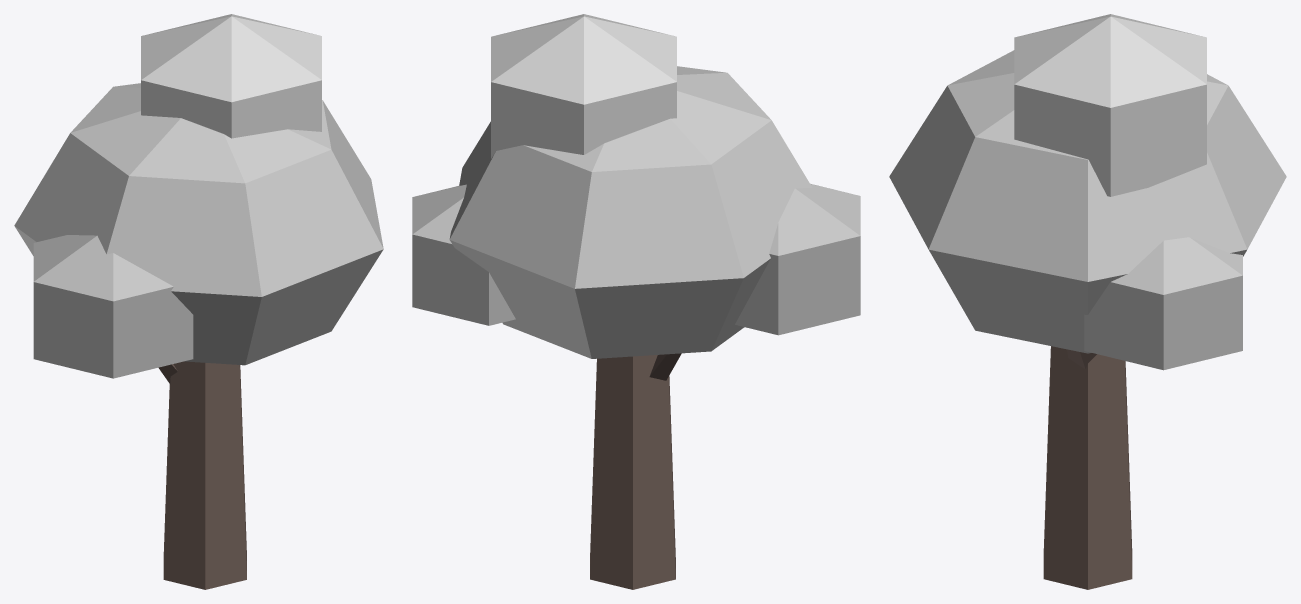
File: prop_round.glb
3 views of the same model, side by side, from view 1: azimuth 30°, elevation 25°; view 2: azimuth 150°, elevation 25°; view 3: azimuth 270°, elevation 25° (orthographic). The views are drawn at different scales.
Parts seen in each view (by area): view 1: tint, tint2, body; view 2: tint, tint2, body; view 3: tint, tint2, body.
Boxes of the visible parts, <box> form: tint: <box>14,83,383,378</box>; tint2: <box>141,14,321,138</box>; body: <box>158,361,246,589</box>; tint: <box>412,66,860,358</box>; tint2: <box>491,14,676,158</box>; body: <box>590,353,681,589</box>; tint: <box>889,50,1286,370</box>; tint2: <box>1014,14,1206,196</box>; body: <box>1043,346,1132,589</box>.
Bounding box in the file's own units: 3.06 × 4.17 × 2.63.
